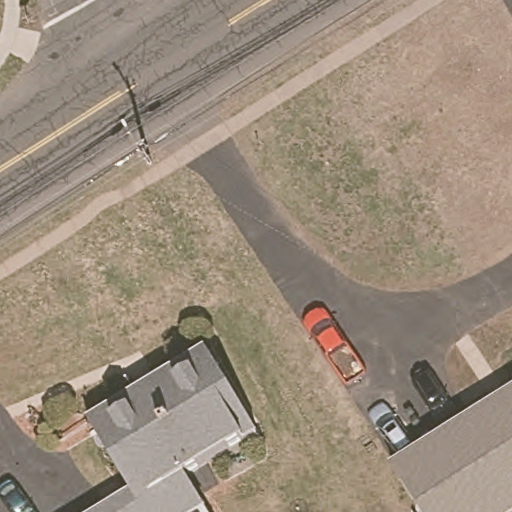DT: (115, 117, 169, 167)
